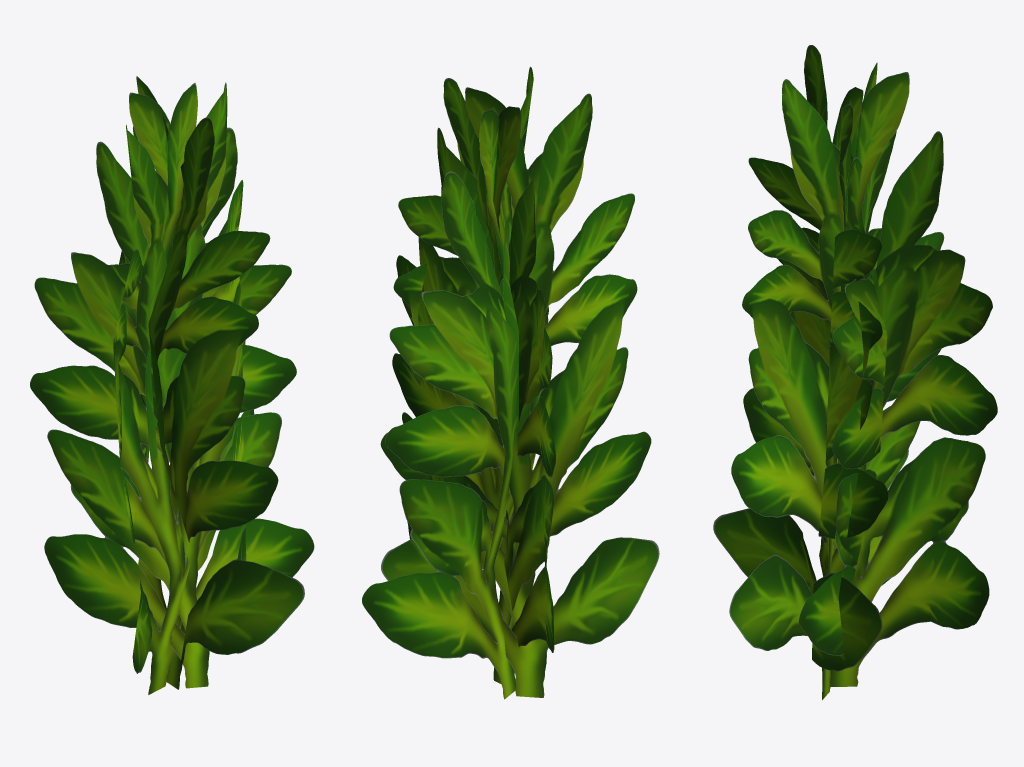
The model's file is LabPlantB.fbx.
3 views of the same model, side by side, from view 1: azimuth 30°, elevation 25°; view 2: azimuth 150°, elevation 25°; view 3: azimuth 270°, elevation 25° (orthographic). The views are drawn at different scales.
Visible parts, largest first — view 1: LabPlantB; view 2: LabPlantB; view 3: LabPlantB.
Boxes of the visible parts, box(x1,y1,x2,y2) form: LabPlantB: box(30, 76, 314, 694); LabPlantB: box(362, 66, 659, 699); LabPlantB: box(713, 45, 997, 700).
Size of the model in its own units: 37.75 by 93 by 41.78.
